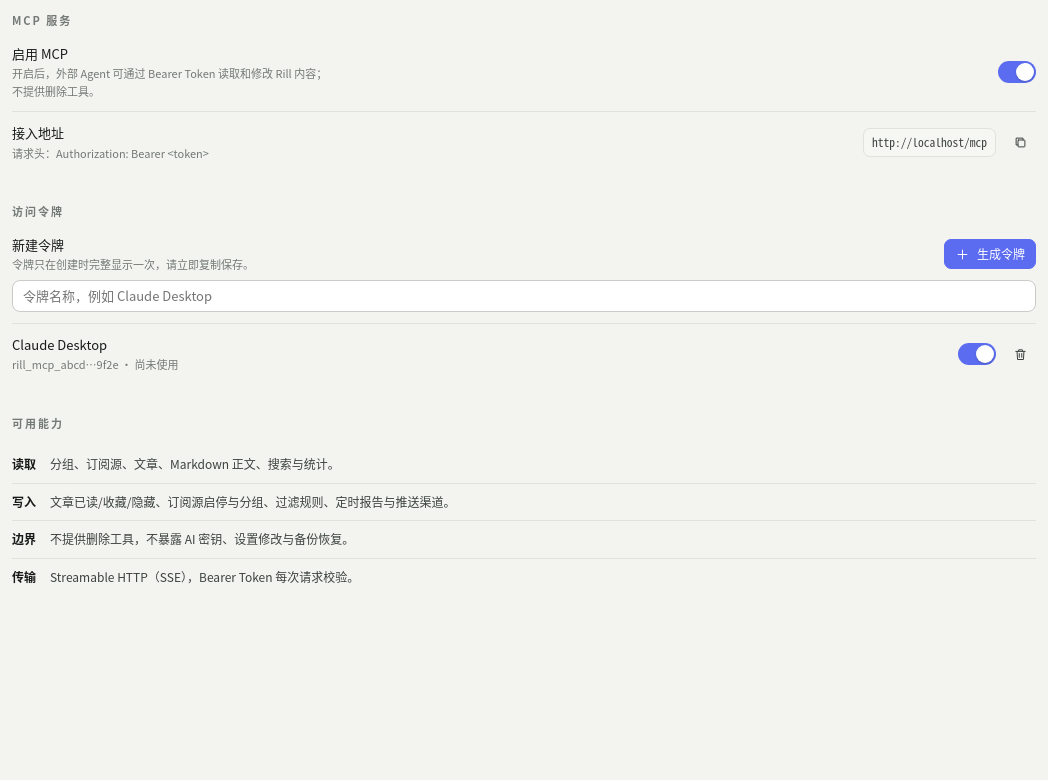
Test: McpSettings › shows the endpoint, existing tokens and a one-time token after creation
Expected: the text "Claude Desktop" is shown, [12,335,107,354]
Expected: the switch named "启用 MCP" is checked, [998,61,1036,83]
Type "Codex" into the field named "MCP 令牌名称" at point(524, 296), box [12,280,1036,312]
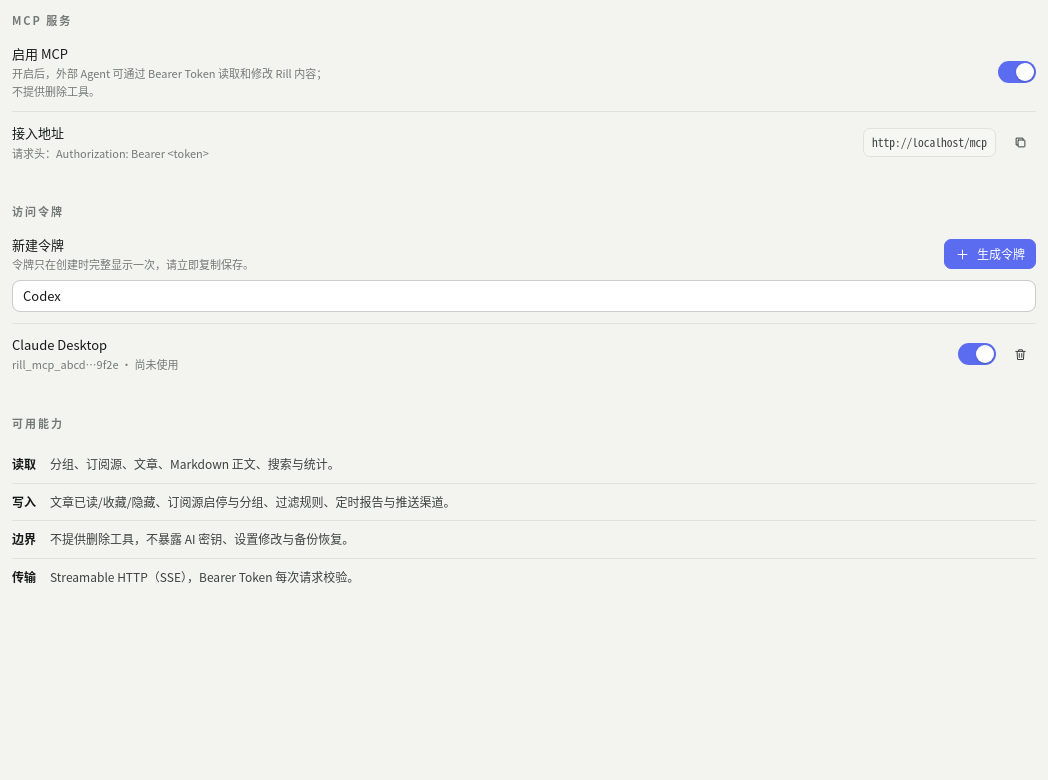
Click the button "生成令牌" at point(990, 254), box [944,239,1036,269]
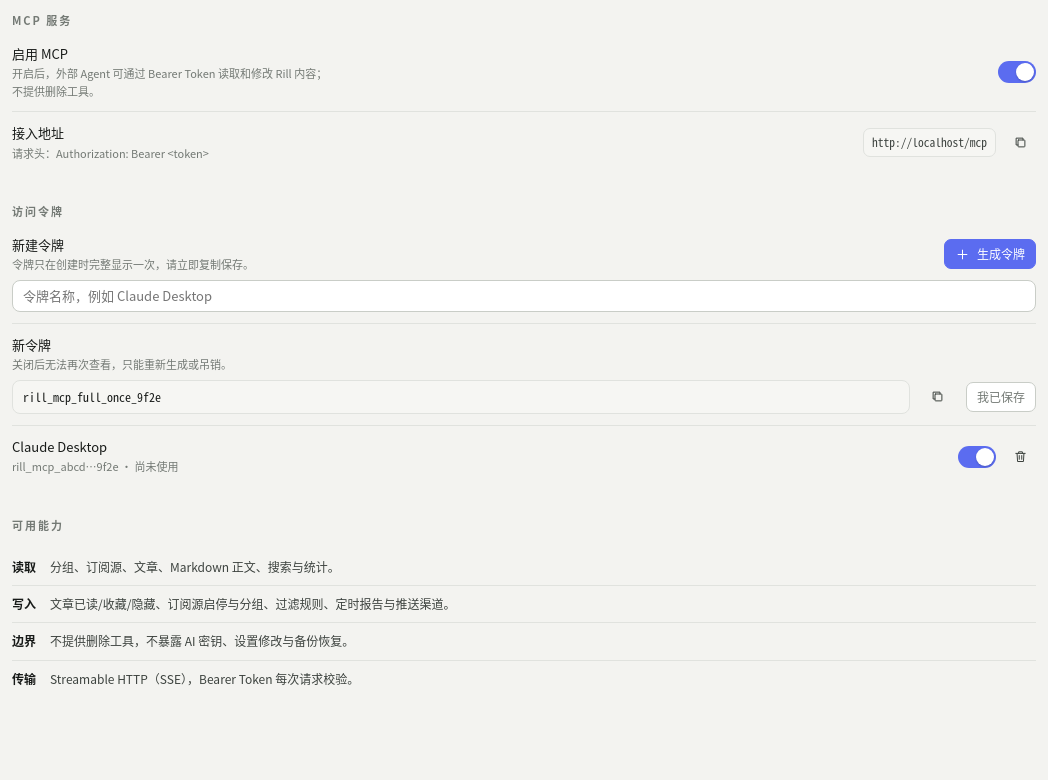
Expected: the text "rill_mcp_full_once_9f2e" is shown, [12,380,910,414]
Expected: the button "我已保存" is shown, [966,382,1036,412]
